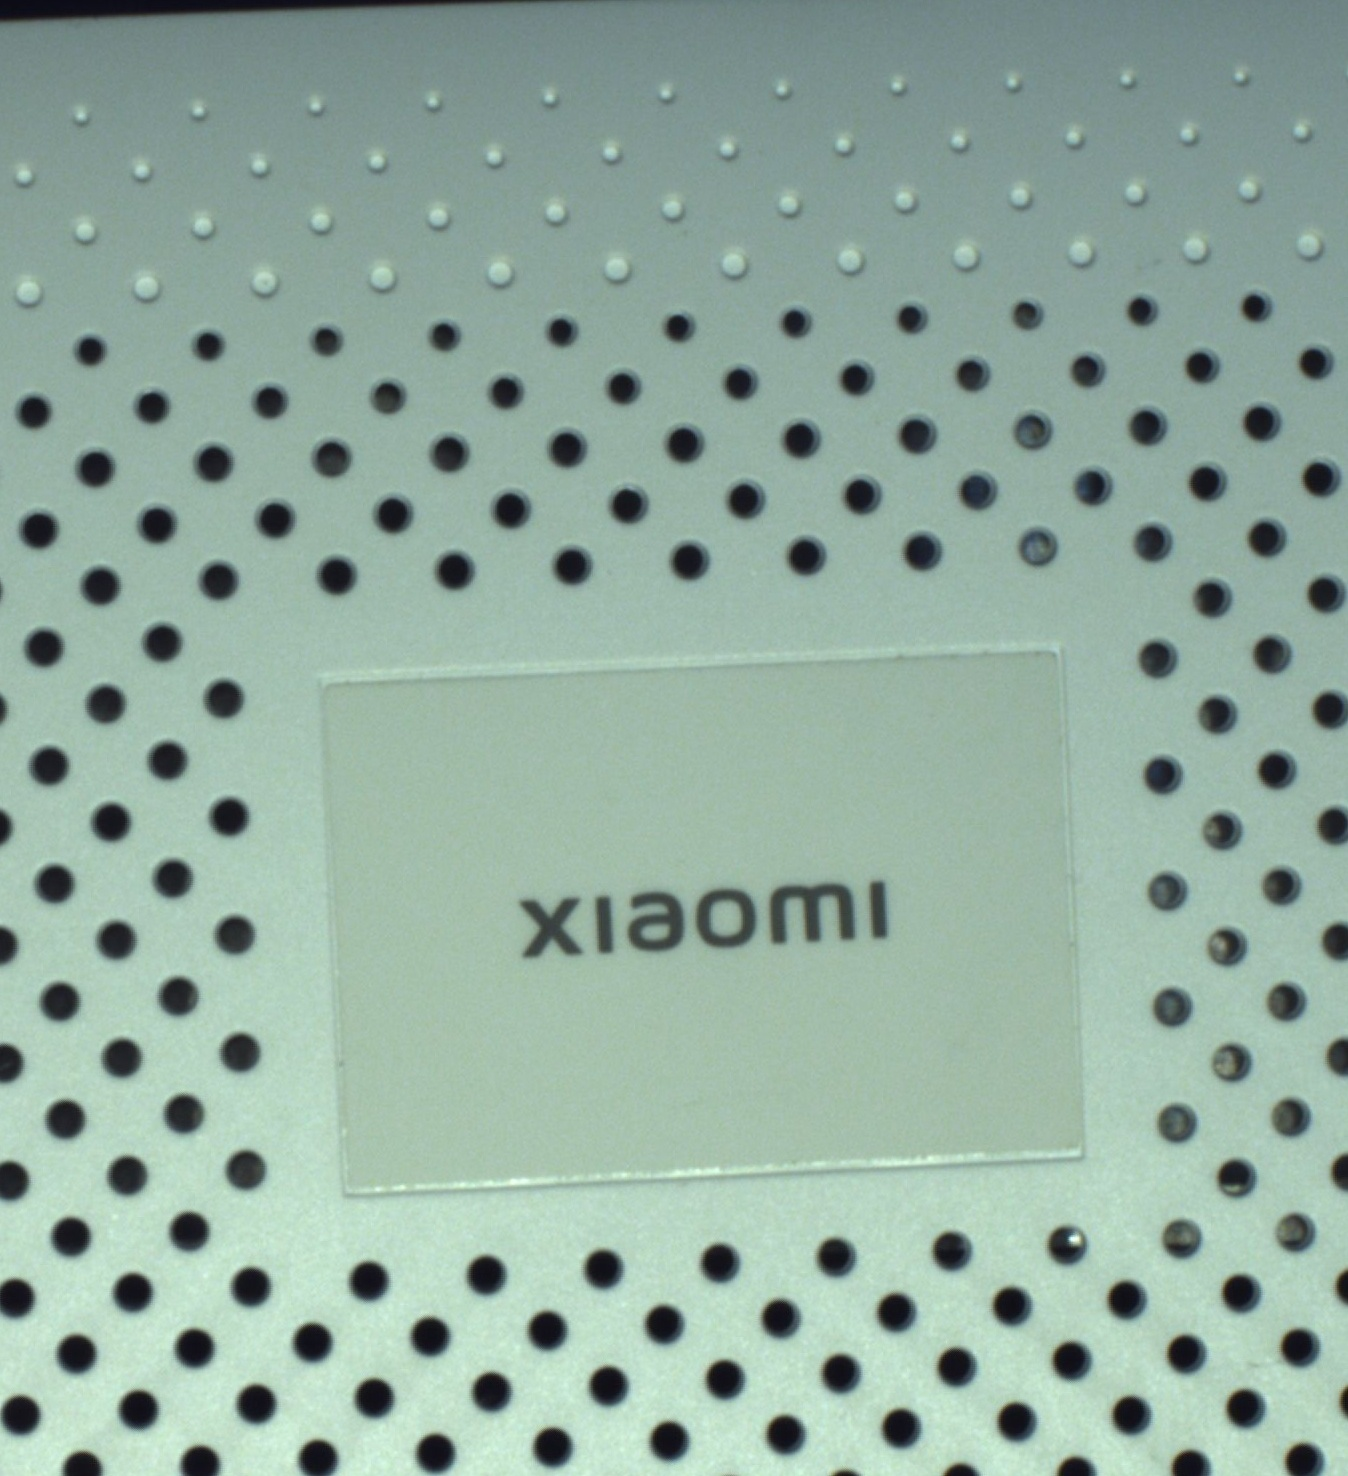MAB_OldUnicom: (491, 869, 900, 954)
